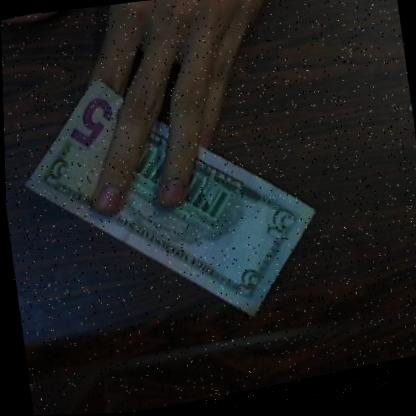five-back: (4, 35, 334, 367)
